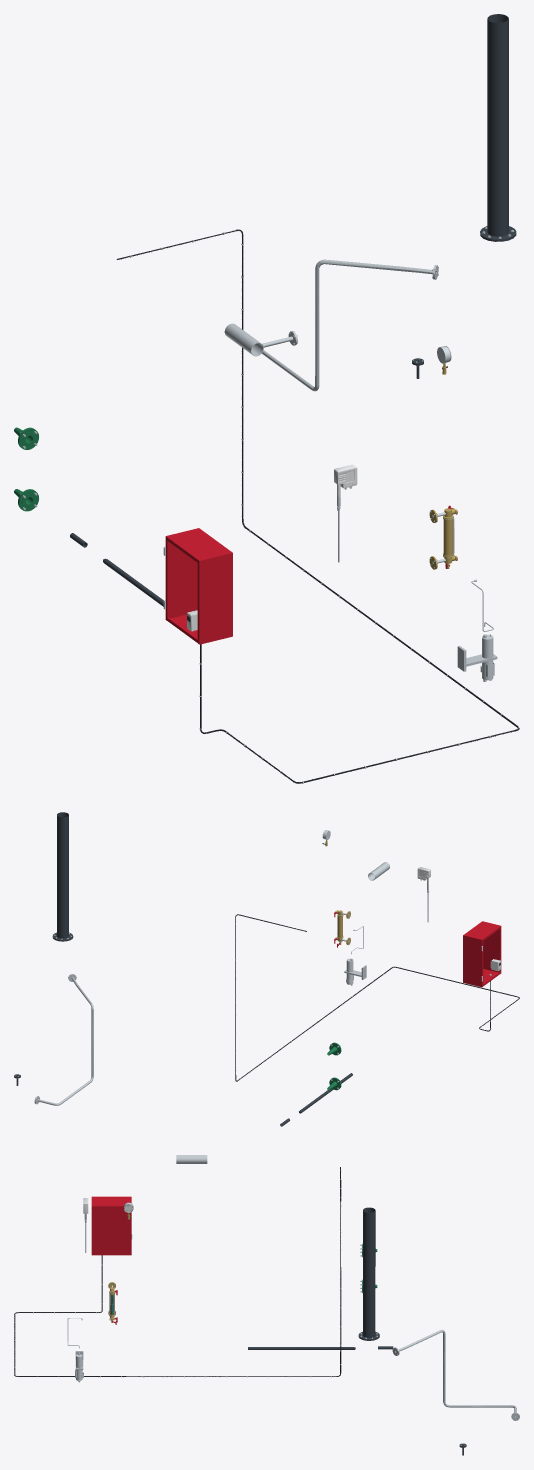
3 views of the same model, one above another, from view 1: azimuth 30°, elevation 25°; view 2: azimuth 150°, elevation 25°; view 3: azimuth 270°, elevation 25° (orthographic). The views are drawn at different scales.
Parts seen in each view (by area): view 1: control_cabinet / control_cabinet_0.npz, bdv_vent / dark, mod_eco_drive_cable / black, trap_gap_to_bdv / steel, sight_glasses_1 / sight_glasses_1_0.npz; view 2: control_cabinet / control_cabinet_0.npz, bdv_vent / dark, mod_eco_drive_cable / black, trap_gap_to_bdv / steel; view 3: control_cabinet / control_cabinet_0.npz, bdv_vent / dark, mod_eco_drive_cable / black, trap_gap_to_bdv / steel.
Part boxes in pixels (x1,y1,x2,y2): control_cabinet / control_cabinet_0.npz: (163, 528, 232, 644); bdv_vent / dark: (480, 14, 516, 241); mod_eco_drive_cable / black: (116, 229, 519, 783); trap_gap_to_bdv / steel: (262, 259, 438, 391); sight_glasses_1 / sight_glasses_1_0.npz: (429, 505, 457, 569); control_cabinet / control_cabinet_0.npz: (463, 921, 501, 987); bdv_vent / dark: (52, 812, 73, 941); mod_eco_drive_cable / black: (235, 914, 519, 1081); trap_gap_to_bdv / steel: (34, 974, 93, 1105); control_cabinet / control_cabinet_0.npz: (91, 1196, 132, 1255); bdv_vent / dark: (358, 1207, 379, 1340); mod_eco_drive_cable / black: (14, 1167, 341, 1376); trap_gap_to_bdv / steel: (392, 1329, 519, 1420).
Bounding box in the file's own units: 5 × 3.76 × 6.74.
